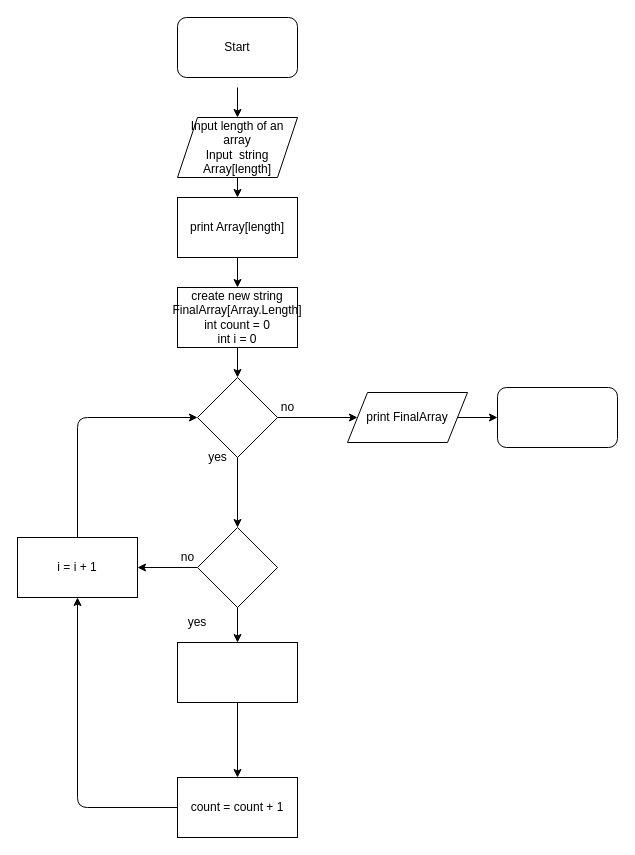
Some shapes in this 635 by 855 pixel diagram are drawn without their labels. The box of each missing label's shape, as (x1, y1, x2, y2) in pixels:
end: (496, 386, 618, 448)
FinalArray[count] = array[i]: (176, 642, 298, 702)
i < Array.Length: (196, 376, 278, 458)
if Array[i].Length <= 3: (196, 526, 278, 608)
